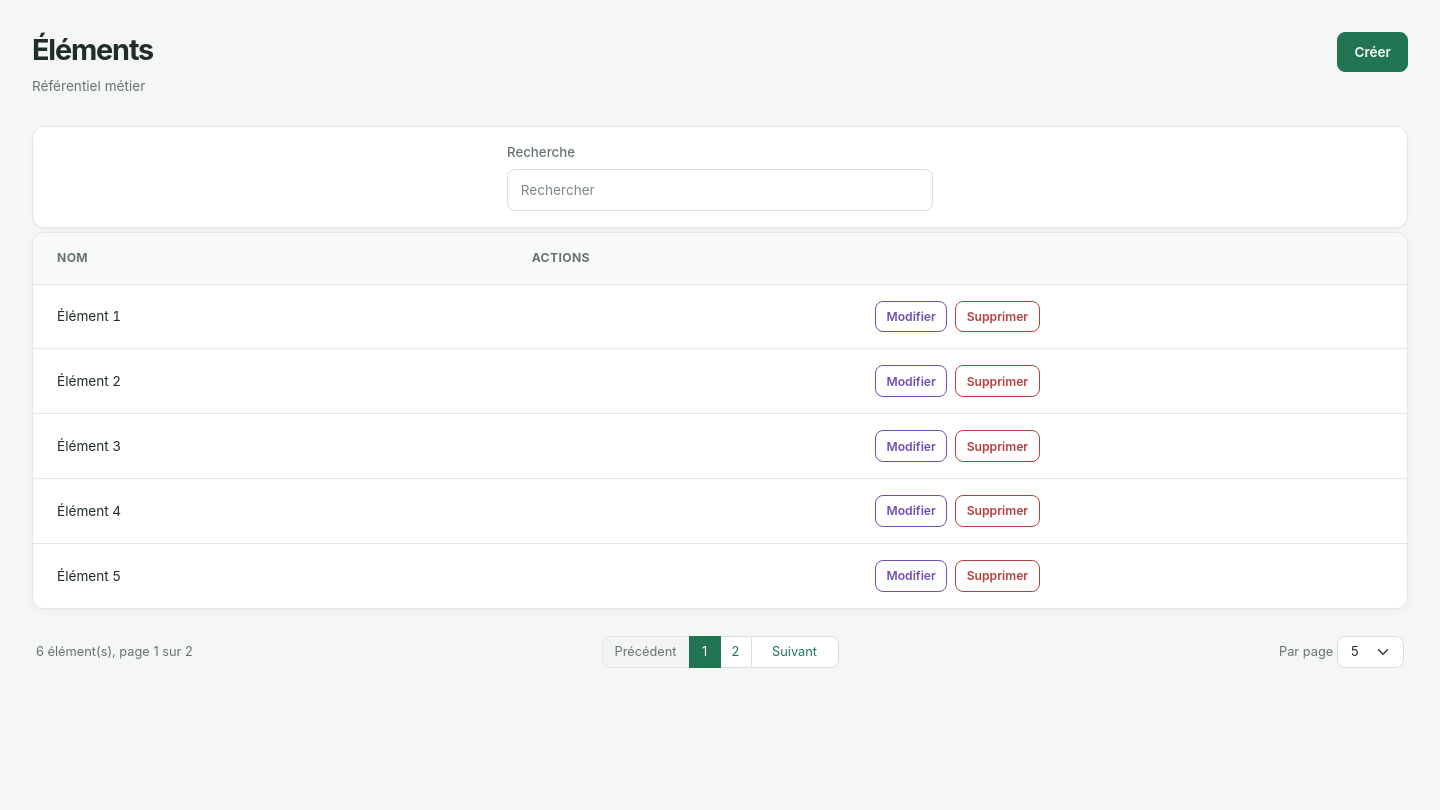
Test: ReferencePage pagination › shows five rows by default and can use the largest page size
Expected: the text "Élément 5" is shown, [33,543,508,608]
Expected: the text "Élément 6" is not shown
Select "25" in the dropdown named "Nombre d’éléments par page". click: (1371, 652)
box: [1337,636,1404,668]
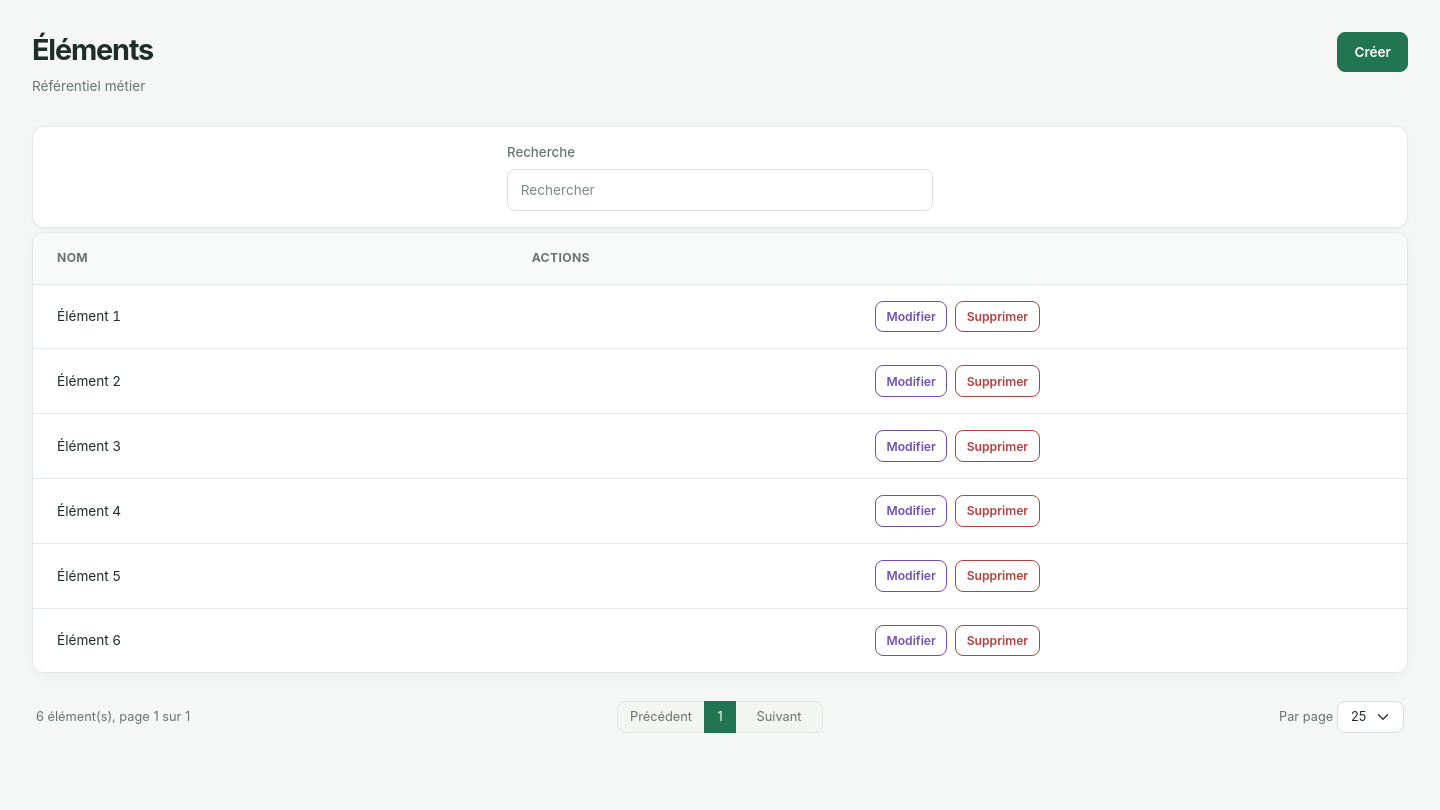
Expected: the text "Élément 6" is shown, [33,608,508,672]
